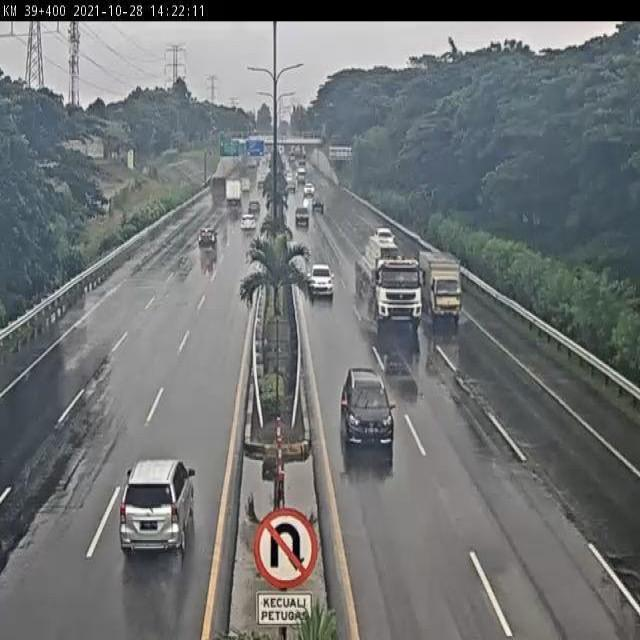car: (119, 456, 197, 557), (339, 364, 395, 456), (309, 260, 336, 296), (197, 224, 219, 251)
small truck: (420, 251, 464, 325)
truck-xl-: (349, 226, 419, 322)
